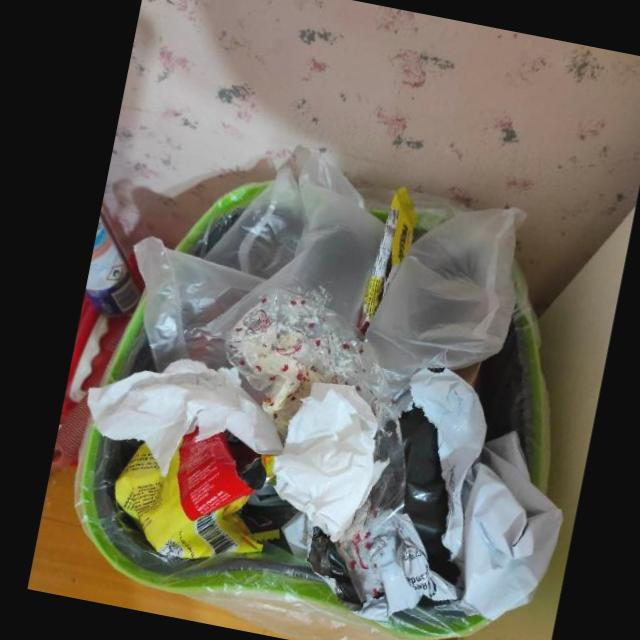bao_bi_thuc_pham: (115, 425, 276, 558), (357, 187, 418, 335)
giay: (87, 359, 284, 478), (273, 382, 390, 543)
tui_ni_long: (336, 208, 565, 623), (133, 147, 386, 373)
